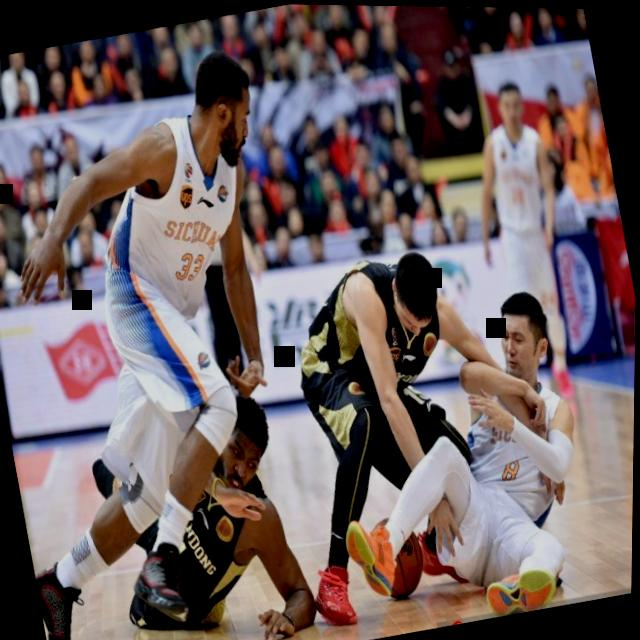Fall-Detected: (95, 377, 341, 640)
